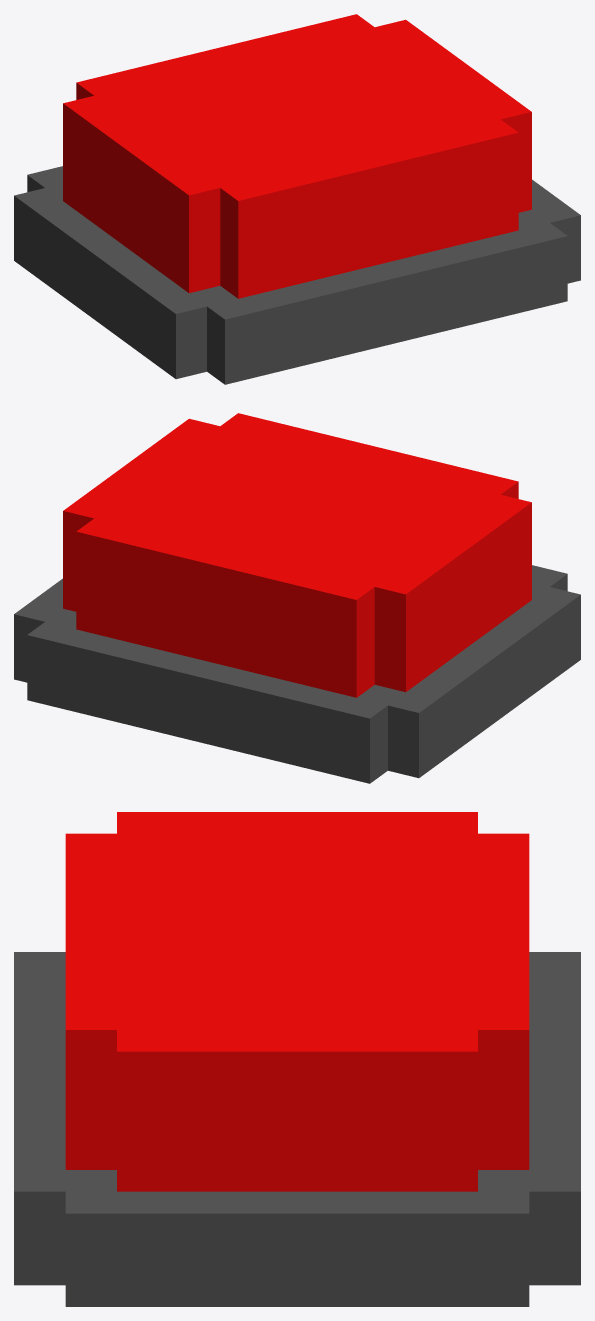
File: button.gltf
3 renders of one model, top to bottom at view 1: azimuth 30°, elevation 25°; view 2: azimuth 150°, elevation 25°; view 3: azimuth 270°, elevation 25°, orthographic. The views are drawn at different scales.
Parts seen in each view (by area): view 1: Layer.2, Layer.1; view 2: Layer.2, Layer.1; view 3: Layer.2, Layer.1.
Boxes of the visible parts, x1=… form: Layer.2: x1=63, y1=14, x2=531, y2=298; Layer.1: x1=14, y1=166, x2=580, y2=384; Layer.2: x1=63, y1=413, x2=531, y2=697; Layer.1: x1=14, y1=565, x2=580, y2=783; Layer.2: x1=65, y1=812, x2=529, y2=1191; Layer.1: x1=14, y1=952, x2=580, y2=1306.
Size of the model in its own units: 13 by 5 by 11.
1 material, 1 textured.
